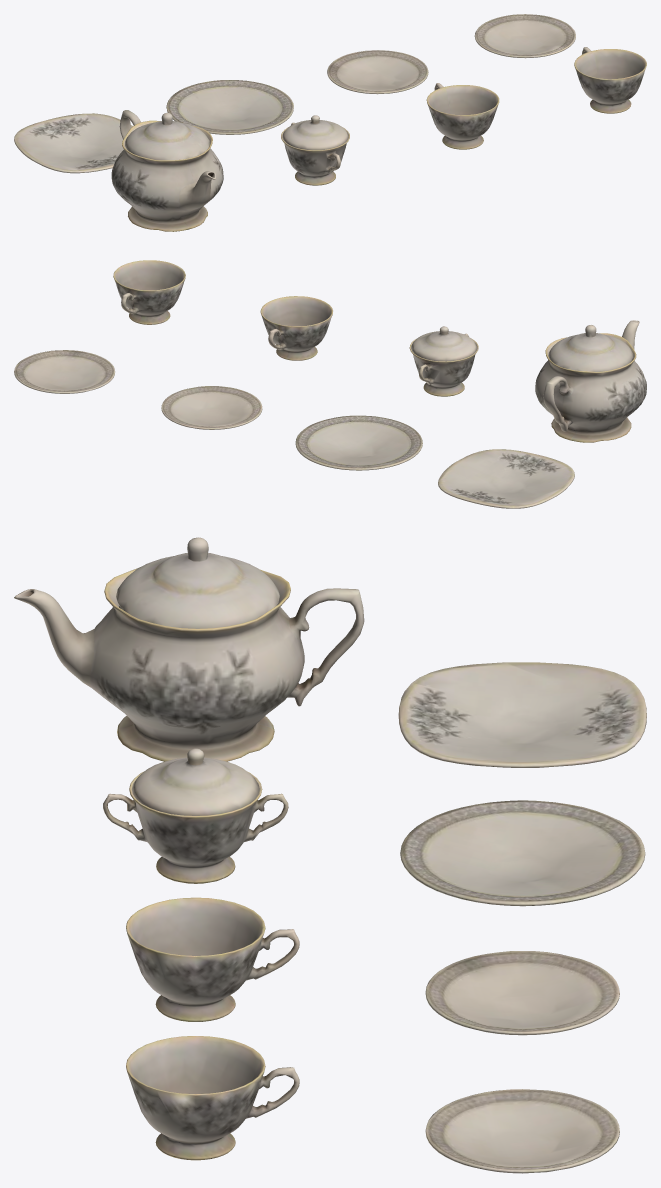
Rendered from tea_set_01.glb.
3 renders of one model, top to bottom at view 1: azimuth 30°, elevation 25°; view 2: azimuth 150°, elevation 25°; view 3: azimuth 270°, elevation 25°, orthographic. The views are drawn at different scales.
Visible parts, largest first — view 1: tea_set_01_plate_large_square_01; view 2: tea_set_01_plate_large_square_01; view 3: tea_set_01_plate_large_square_01.
Boxes of the visible parts, box(x1,y1,x2,y2) form: tea_set_01_plate_large_square_01: box(14, 14, 646, 231); tea_set_01_plate_large_square_01: box(14, 260, 646, 508); tea_set_01_plate_large_square_01: box(14, 537, 646, 1173).
Size of the model in its own units: 0.9183 by 0.165 by 0.4839.
Materials: 1 (1 with a texture image).
